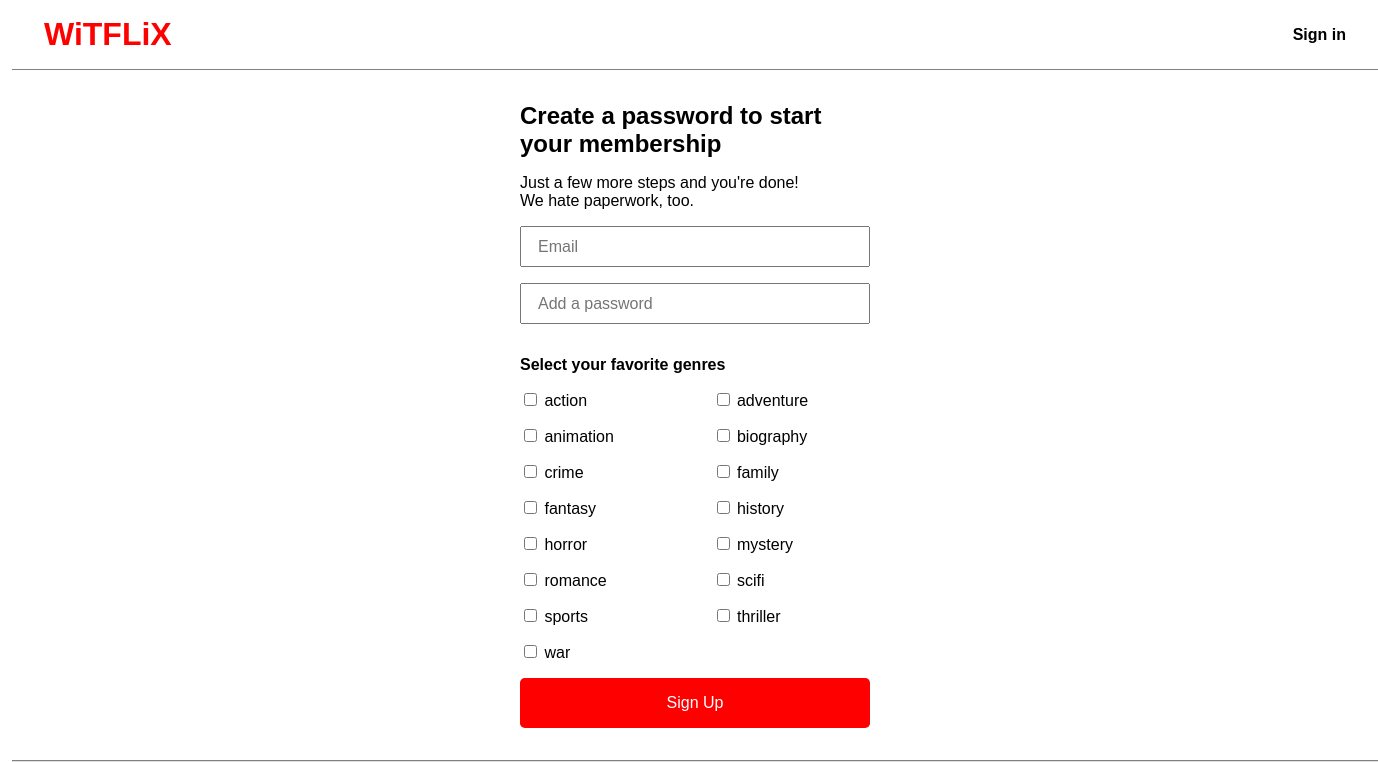
Sign Up Form › Fail Testleri › [6] gets error for short password
Type "emre" into the password field with test id "signup-form-password".
click(695, 304); type("emre")  # box [520, 283, 870, 324]
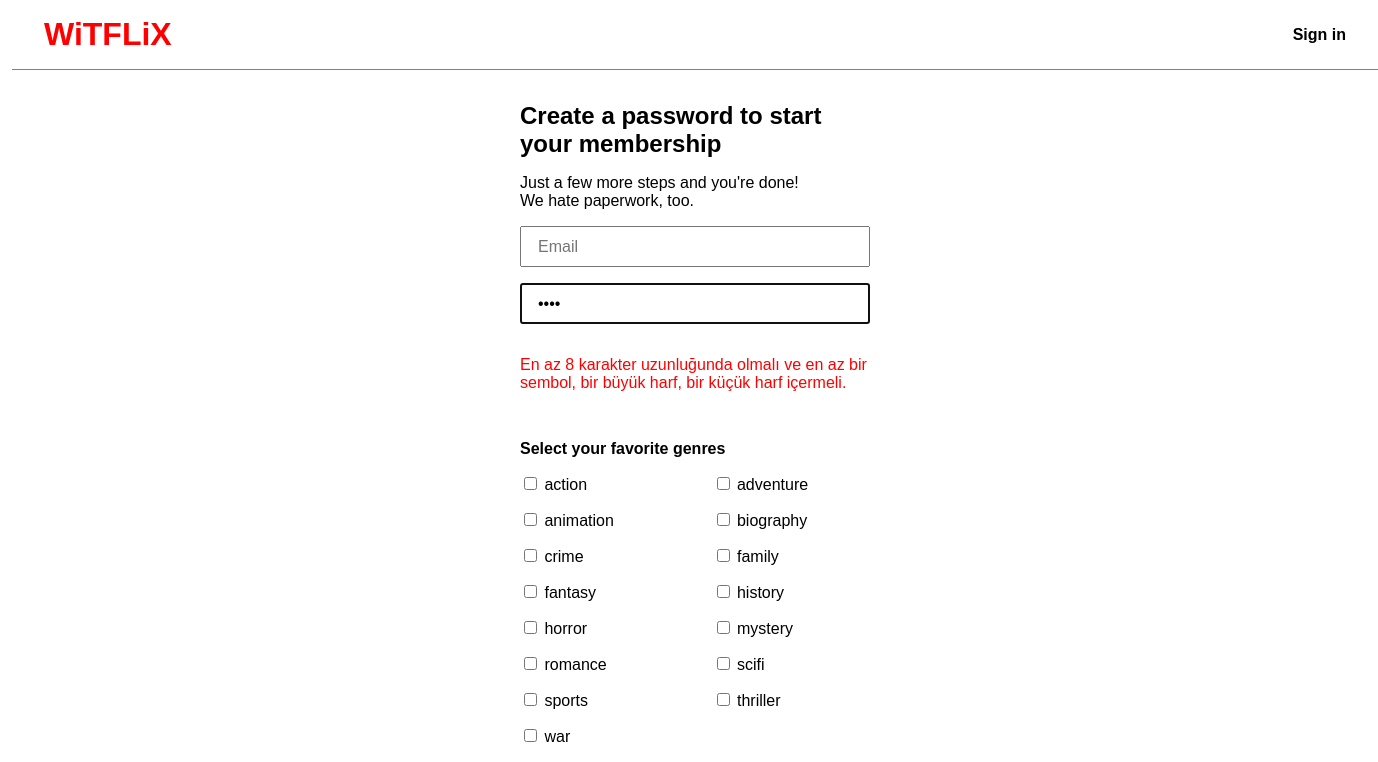
Check: the number of elements with test id "error" is 1, box [520, 356, 870, 392]
